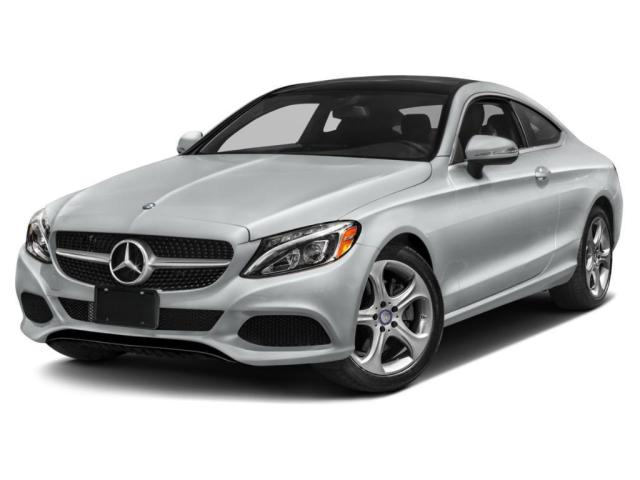C300Coupe: (16, 69, 623, 391)
